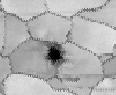good_void: (45, 41, 66, 67)
